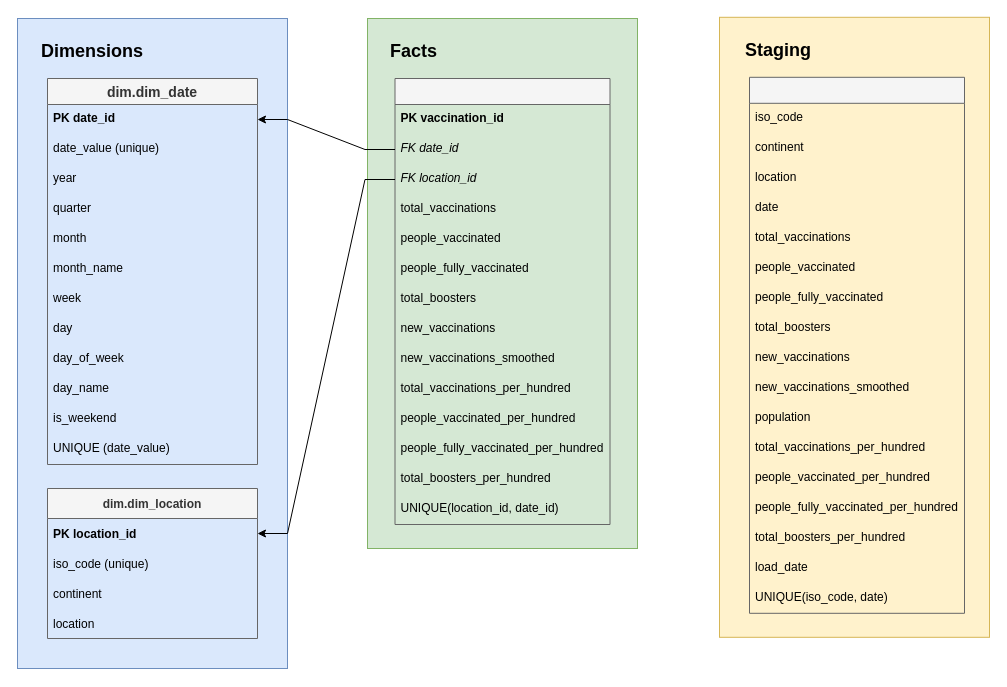
Image size: 1007x687. Some labels were removed from this diagram. The shapes that lost their labels are listed below. From the top down, each one's box as (x1, y1, x2, y2) in pixels, then its label:
(394, 78, 610, 524): fact.fact_vaccination
(748, 76, 964, 613): staging.stg_owid_covid
